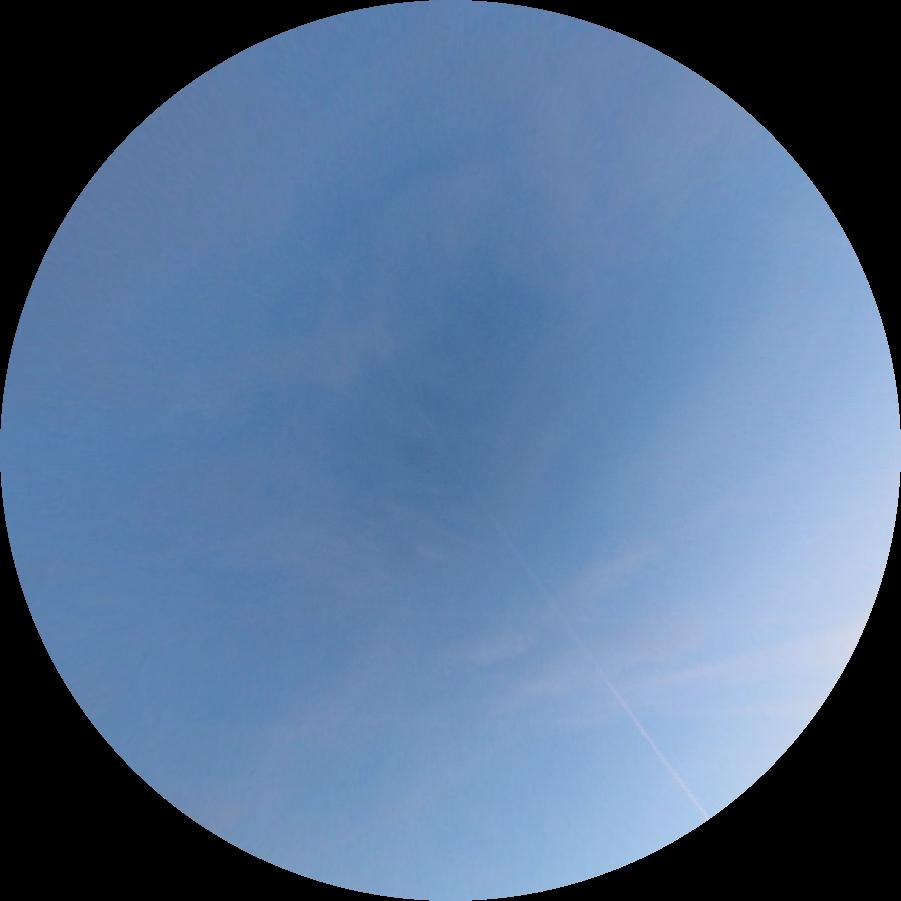contrail young: (371, 353, 713, 824)
